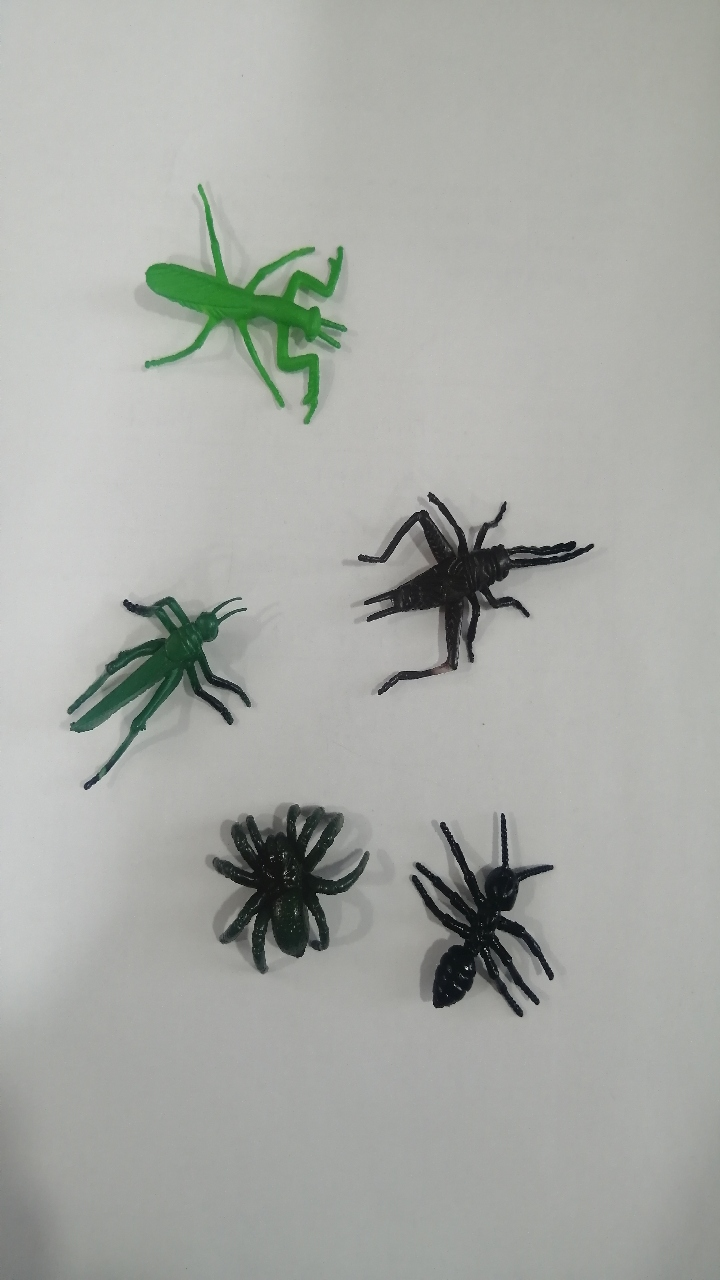intruso: (86, 148, 371, 457), (317, 463, 617, 712), (377, 782, 578, 1052), (40, 559, 261, 802), (181, 782, 388, 1005)
